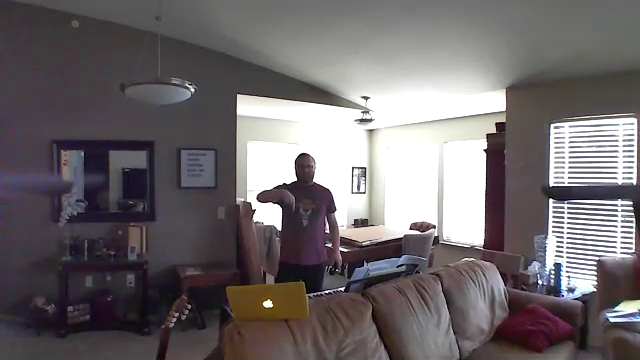down: (280, 185, 298, 214)
